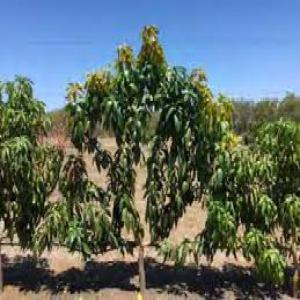Tree: (60, 22, 224, 290)
